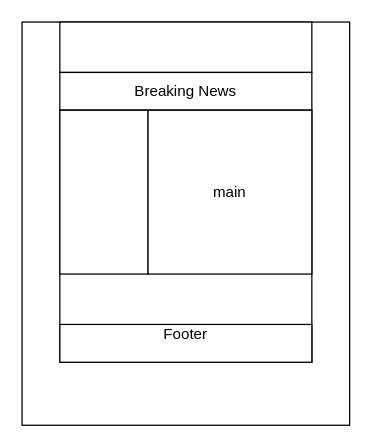
Some shapes in this 372 by 447 pixel diagram are drawn without their labels. The shapes that lost their labels are listed below. From the top down, each one's centre as x and y in pixels, then its label:
point 185,46: Logo Home Products
point 103,191: Side
